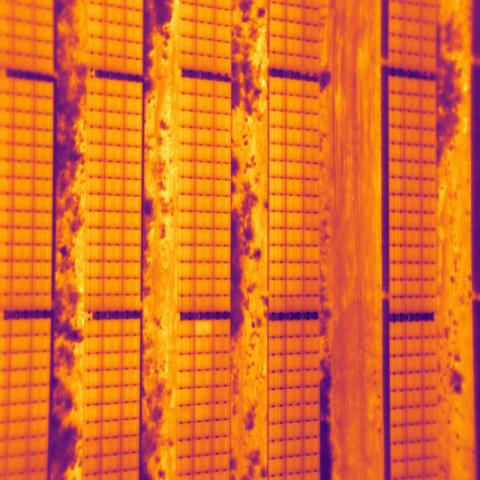fault: (194, 320, 212, 336)
